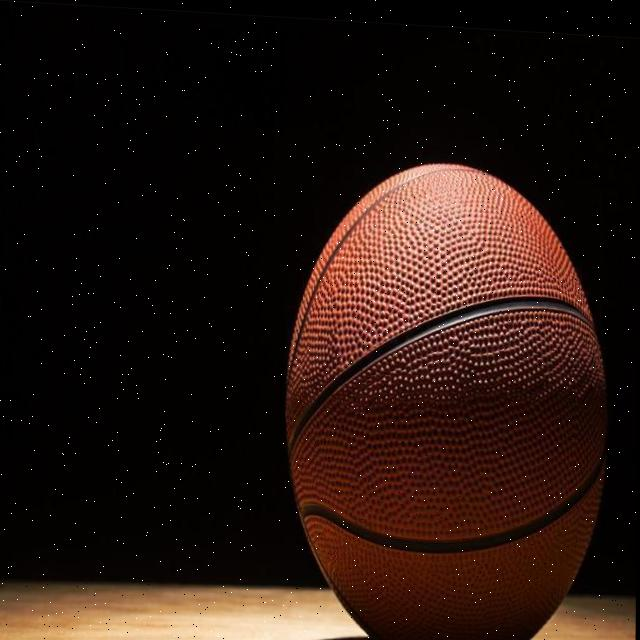Basketball: (280, 153, 609, 640)
